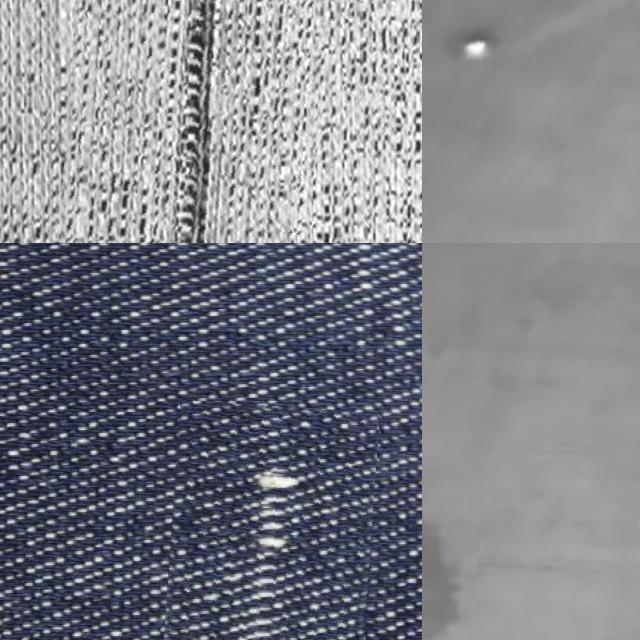other: (422, 0, 550, 141)
stains: (64, 0, 335, 243), (156, 403, 372, 640)
